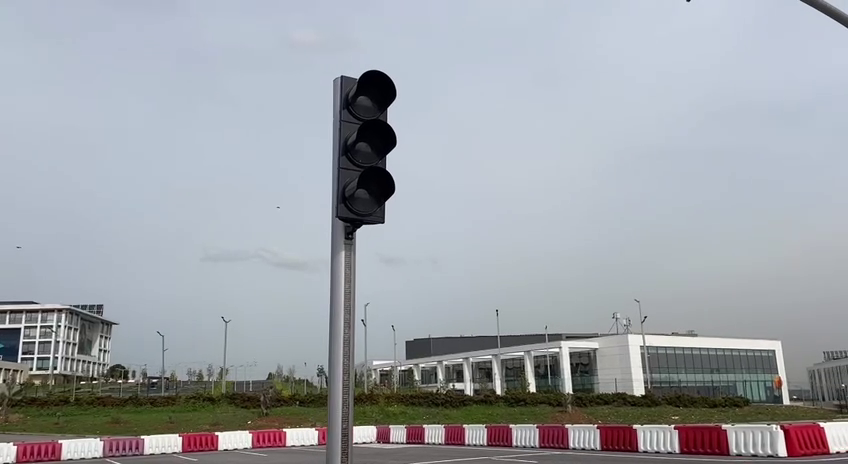trafficLight: (327, 66, 400, 236)
